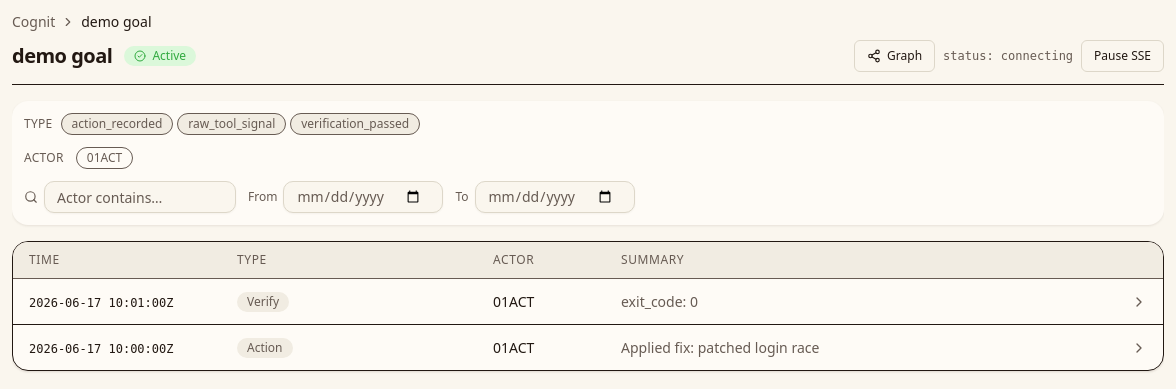
Test: TimelinePage (6.8.2.P4) › shows family labels and action_kind summary; hides raw_tool_signal by default
Expected: the element with test id "timeline-event-kind" does not show "Raw Tool Signal"
Expected: the text "Applied fix: patched login race" is shown, [621,338,819,356]
Click the button with test id "timeline-kind-raw_tool_signal" at (232, 124), box [177,113,286,135]
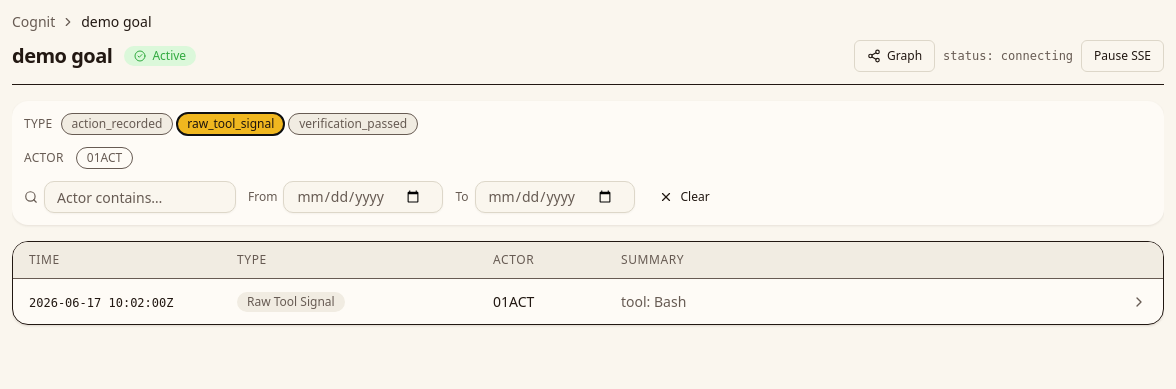
Expected: the text with test id "timeline-event-kind" reads "Raw Tool Signal", [247,293,335,310]
